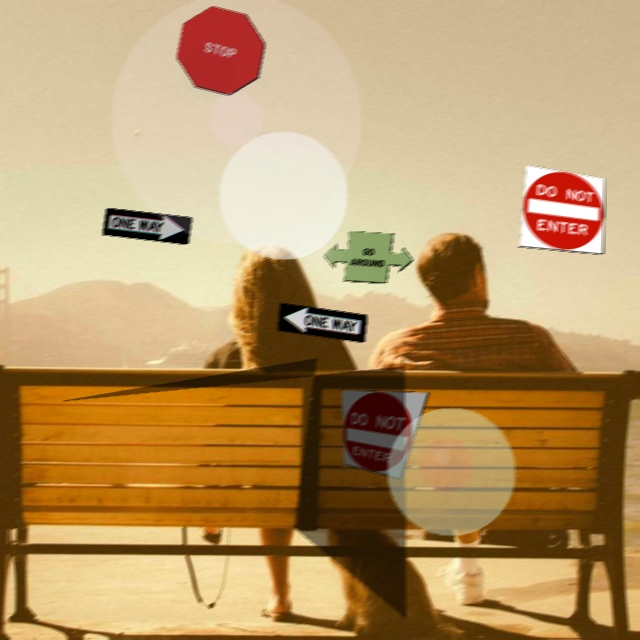DO_NOT_ENTER: (343, 390, 431, 480), (521, 165, 607, 255)
GO_AROUND: (325, 231, 415, 284)
ONE_WAY_ left: (279, 303, 369, 343)
ONE_WAY_ right: (104, 208, 194, 245)
STOP: (178, 6, 267, 96)
